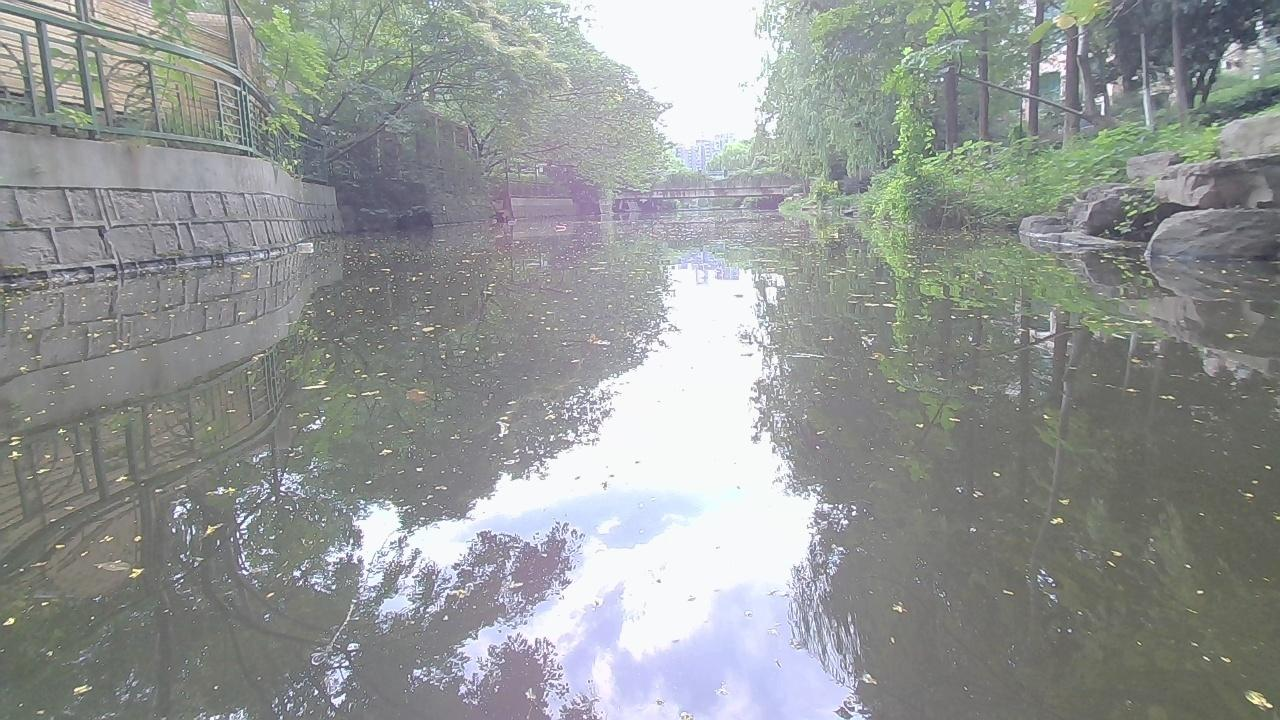bottle: (294, 241, 315, 254), (553, 224, 563, 230)
